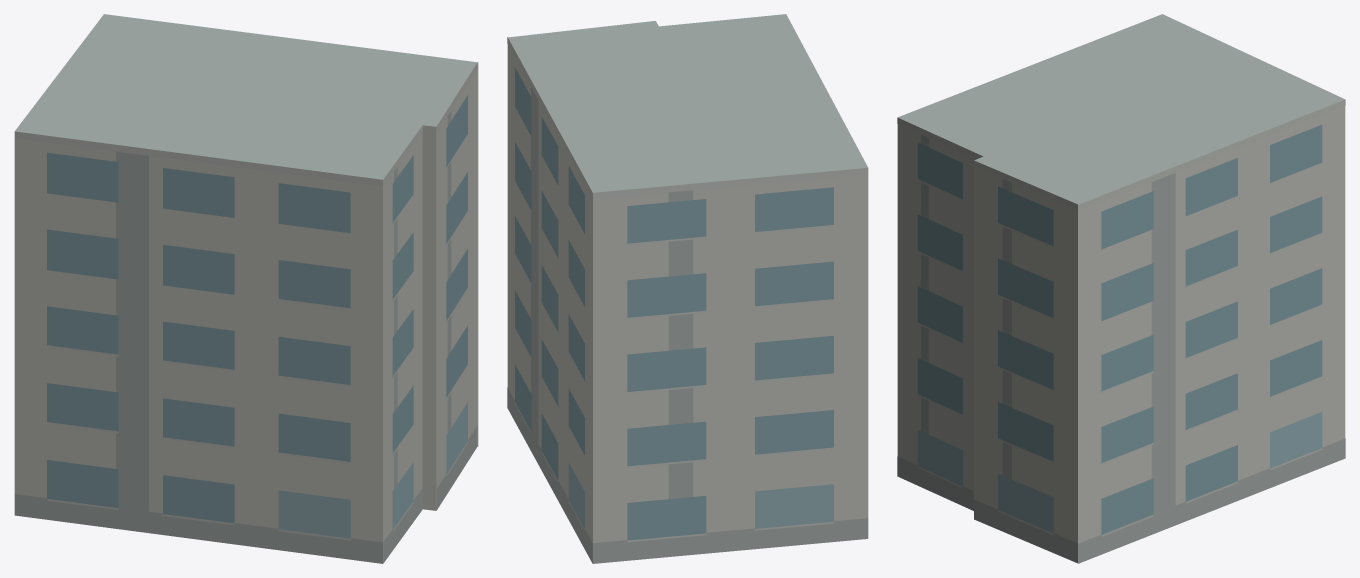
Rendered from survey-upis-32968999.glb.
3 views of the same model, side by side, from view 1: azimuth 30°, elevation 25°; view 2: azimuth 150°, elevation 25°; view 3: azimuth 270°, elevation 25° (orthographic). The views are drawn at different scales.
Parts seen in each view (by area): view 1: survey-upis-32968999.tmp; view 2: survey-upis-32968999.tmp; view 3: survey-upis-32968999.tmp.
Boxes of the visible parts, <box> form: survey-upis-32968999.tmp: <box>14,14,478,563</box>; survey-upis-32968999.tmp: <box>507,14,868,563</box>; survey-upis-32968999.tmp: <box>897,14,1345,563</box>.
Size of the model in its own units: 15.52 by 13.6 by 15.39.
